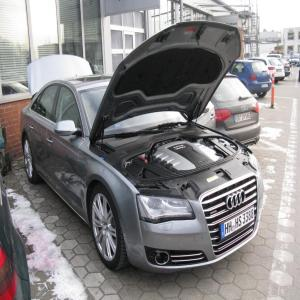Vehicle-registration-plate: (221, 208, 255, 240), (234, 114, 252, 124)
